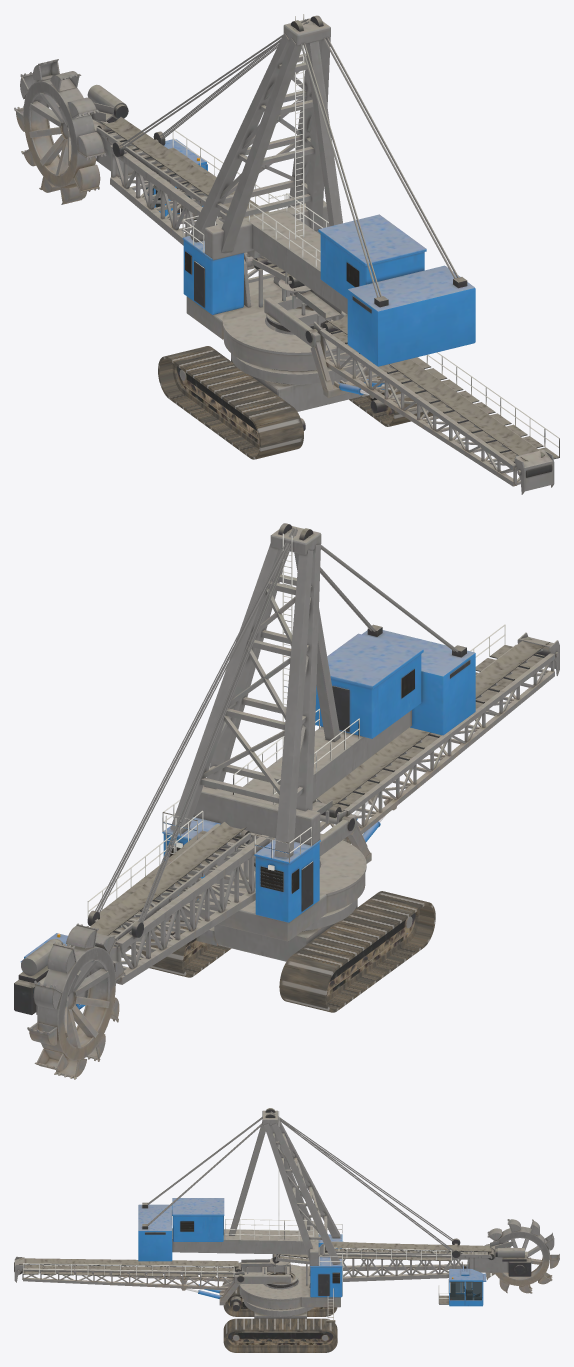
Rendered from bucket-wheel.glb.
3 renders of one model, top to bottom at view 1: azimuth 30°, elevation 25°; view 2: azimuth 150°, elevation 25°; view 3: azimuth 270°, elevation 25°, orthographic. The views are drawn at different scales.
Visible parts, largest first — view 1: Upper, DischargeLuff, Boom, Wheel, Track_L, Undercarriage, DischargeBoom, BoomStay_L, Track_R, BoomStay_R; view 2: Upper, Boom, DischargeLuff, Wheel, Track_L, Undercarriage, BoomStay_R, BoomStay_L, Track_R, DischargeBoom; view 3: Upper, Boom, DischargeLuff, Track_R, Undercarriage, Wheel, DischargeBoom, Cab, BoomStay_R, BoomStay_L, Glass, Track_L.
Boxes of the visible parts, left/top/right/bottom form: Upper: left=182, top=14, right=475, bottom=370; DischargeLuff: left=313, top=314, right=559, bottom=494; Boom: left=87, top=84, right=283, bottom=282; Wheel: left=14, top=59, right=106, bottom=204; Track_L: left=158, top=346, right=303, bottom=459; Undercarriage: left=176, top=308, right=393, bottom=443; DischargeBoom: left=264, top=279, right=377, bottom=397; BoomStay_L: left=119, top=19, right=308, bottom=148; Track_R: left=349, top=366, right=432, bottom=426; BoomStay_R: left=160, top=19, right=309, bottom=139; Upper: left=162, top=523, right=475, bottom=941; Boom: left=14, top=810, right=270, bottom=1014; DischargeLuff: left=316, top=624, right=559, bottom=843; Wheel: left=27, top=923, right=125, bottom=1079; Track_L: left=279, top=891, right=435, bottom=1012; Undercarriage: left=183, top=899, right=415, bottom=996; BoomStay_R: left=95, top=528, right=297, bottom=912; BoomStay_L: left=138, top=527, right=297, bottom=922; Track_R: left=136, top=919, right=231, bottom=977; DischargeBoom: left=254, top=799, right=371, bottom=866; Upper: left=138, top=1108, right=343, bottom=1322; Boom: left=319, top=1238, right=531, bottom=1281; DischargeLuff: left=14, top=1256, right=244, bottom=1290; Track_R: left=223, top=1318, right=337, bottom=1352; Undercarriage: left=227, top=1274, right=333, bottom=1345; Wheel: left=484, top=1219, right=559, bottom=1293; DischargeBoom: left=219, top=1258, right=298, bottom=1305; Cab: left=438, top=1265, right=486, bottom=1306; BoomStay_R: left=270, top=1111, right=453, bottom=1252; BoomStay_L: left=270, top=1112, right=453, bottom=1241; Glass: left=448, top=1279, right=482, bottom=1300; Track_L: left=223, top=1285, right=337, bottom=1316.
Size of the model in its own units: 9.9 by 21.1 by 47.91.
Materials: 2 (1 with a texture image).
